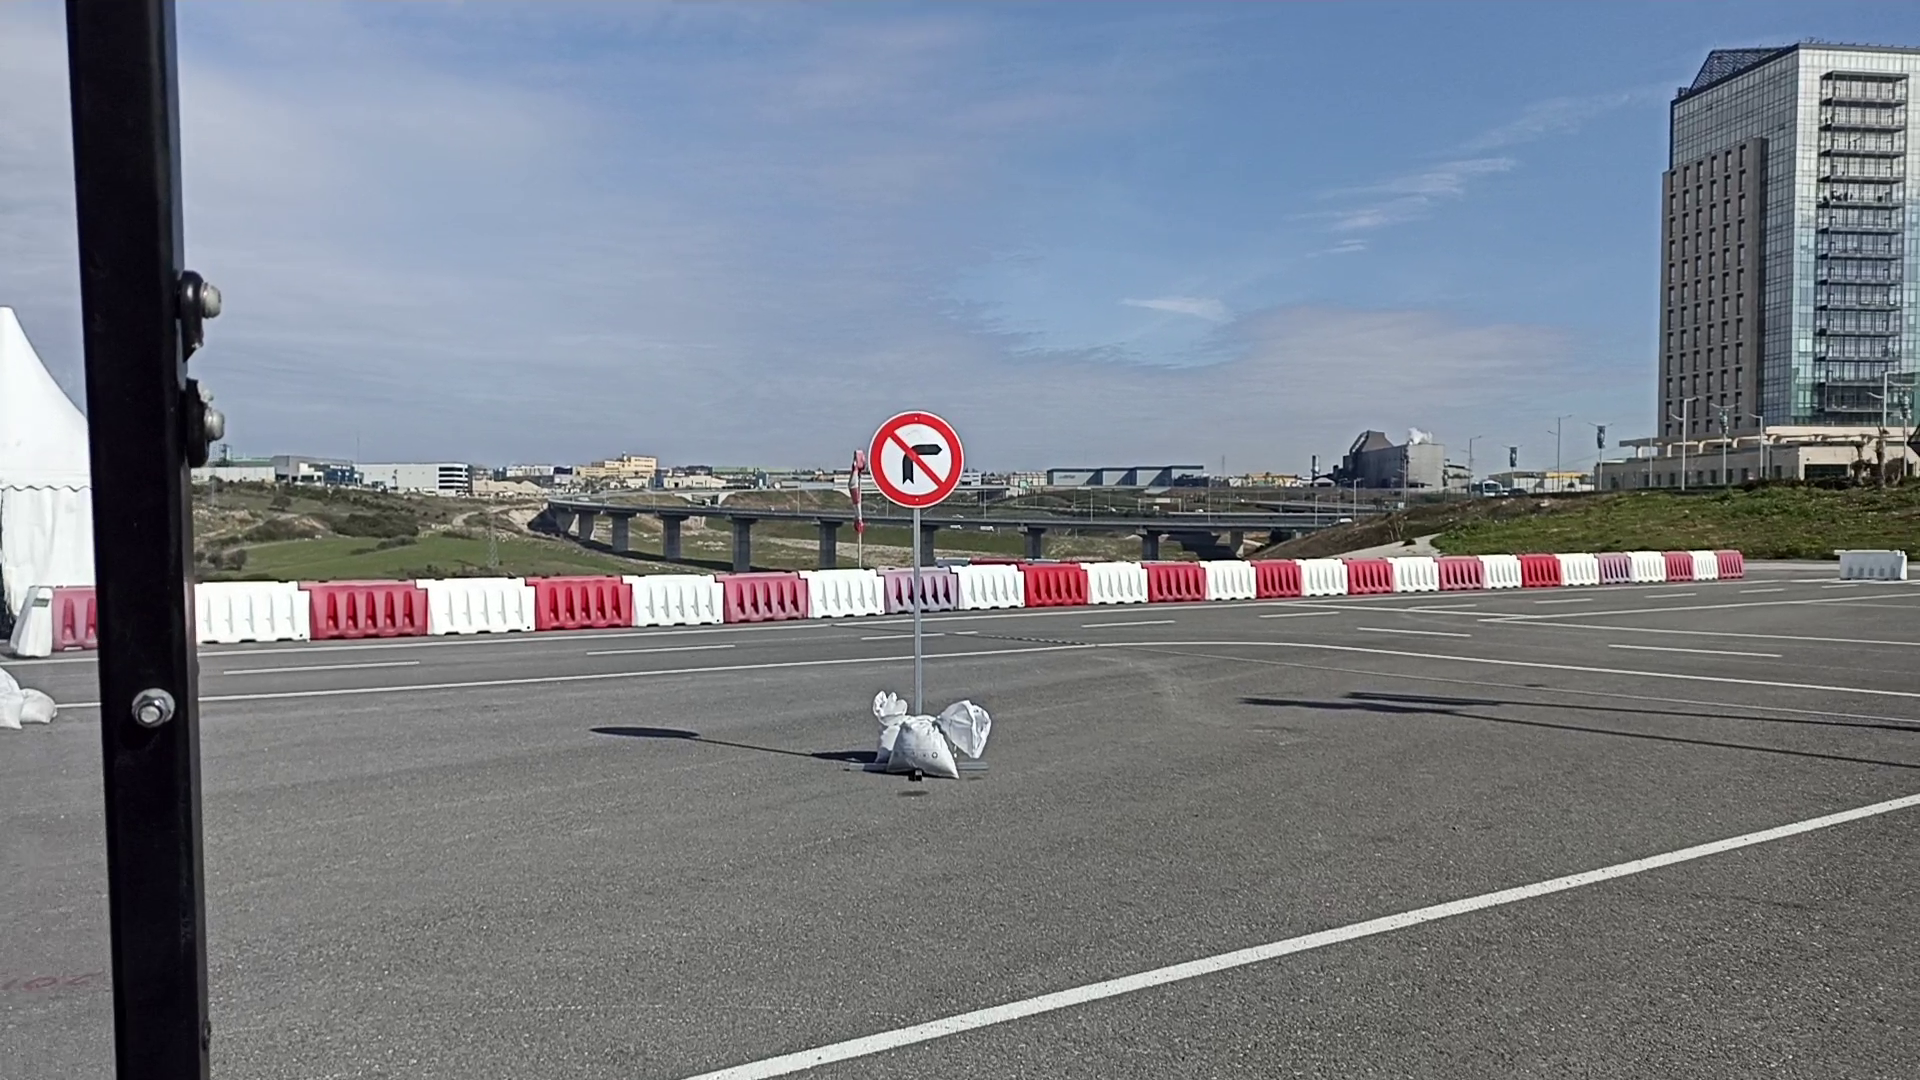noleftturn: (866, 409, 967, 509)
